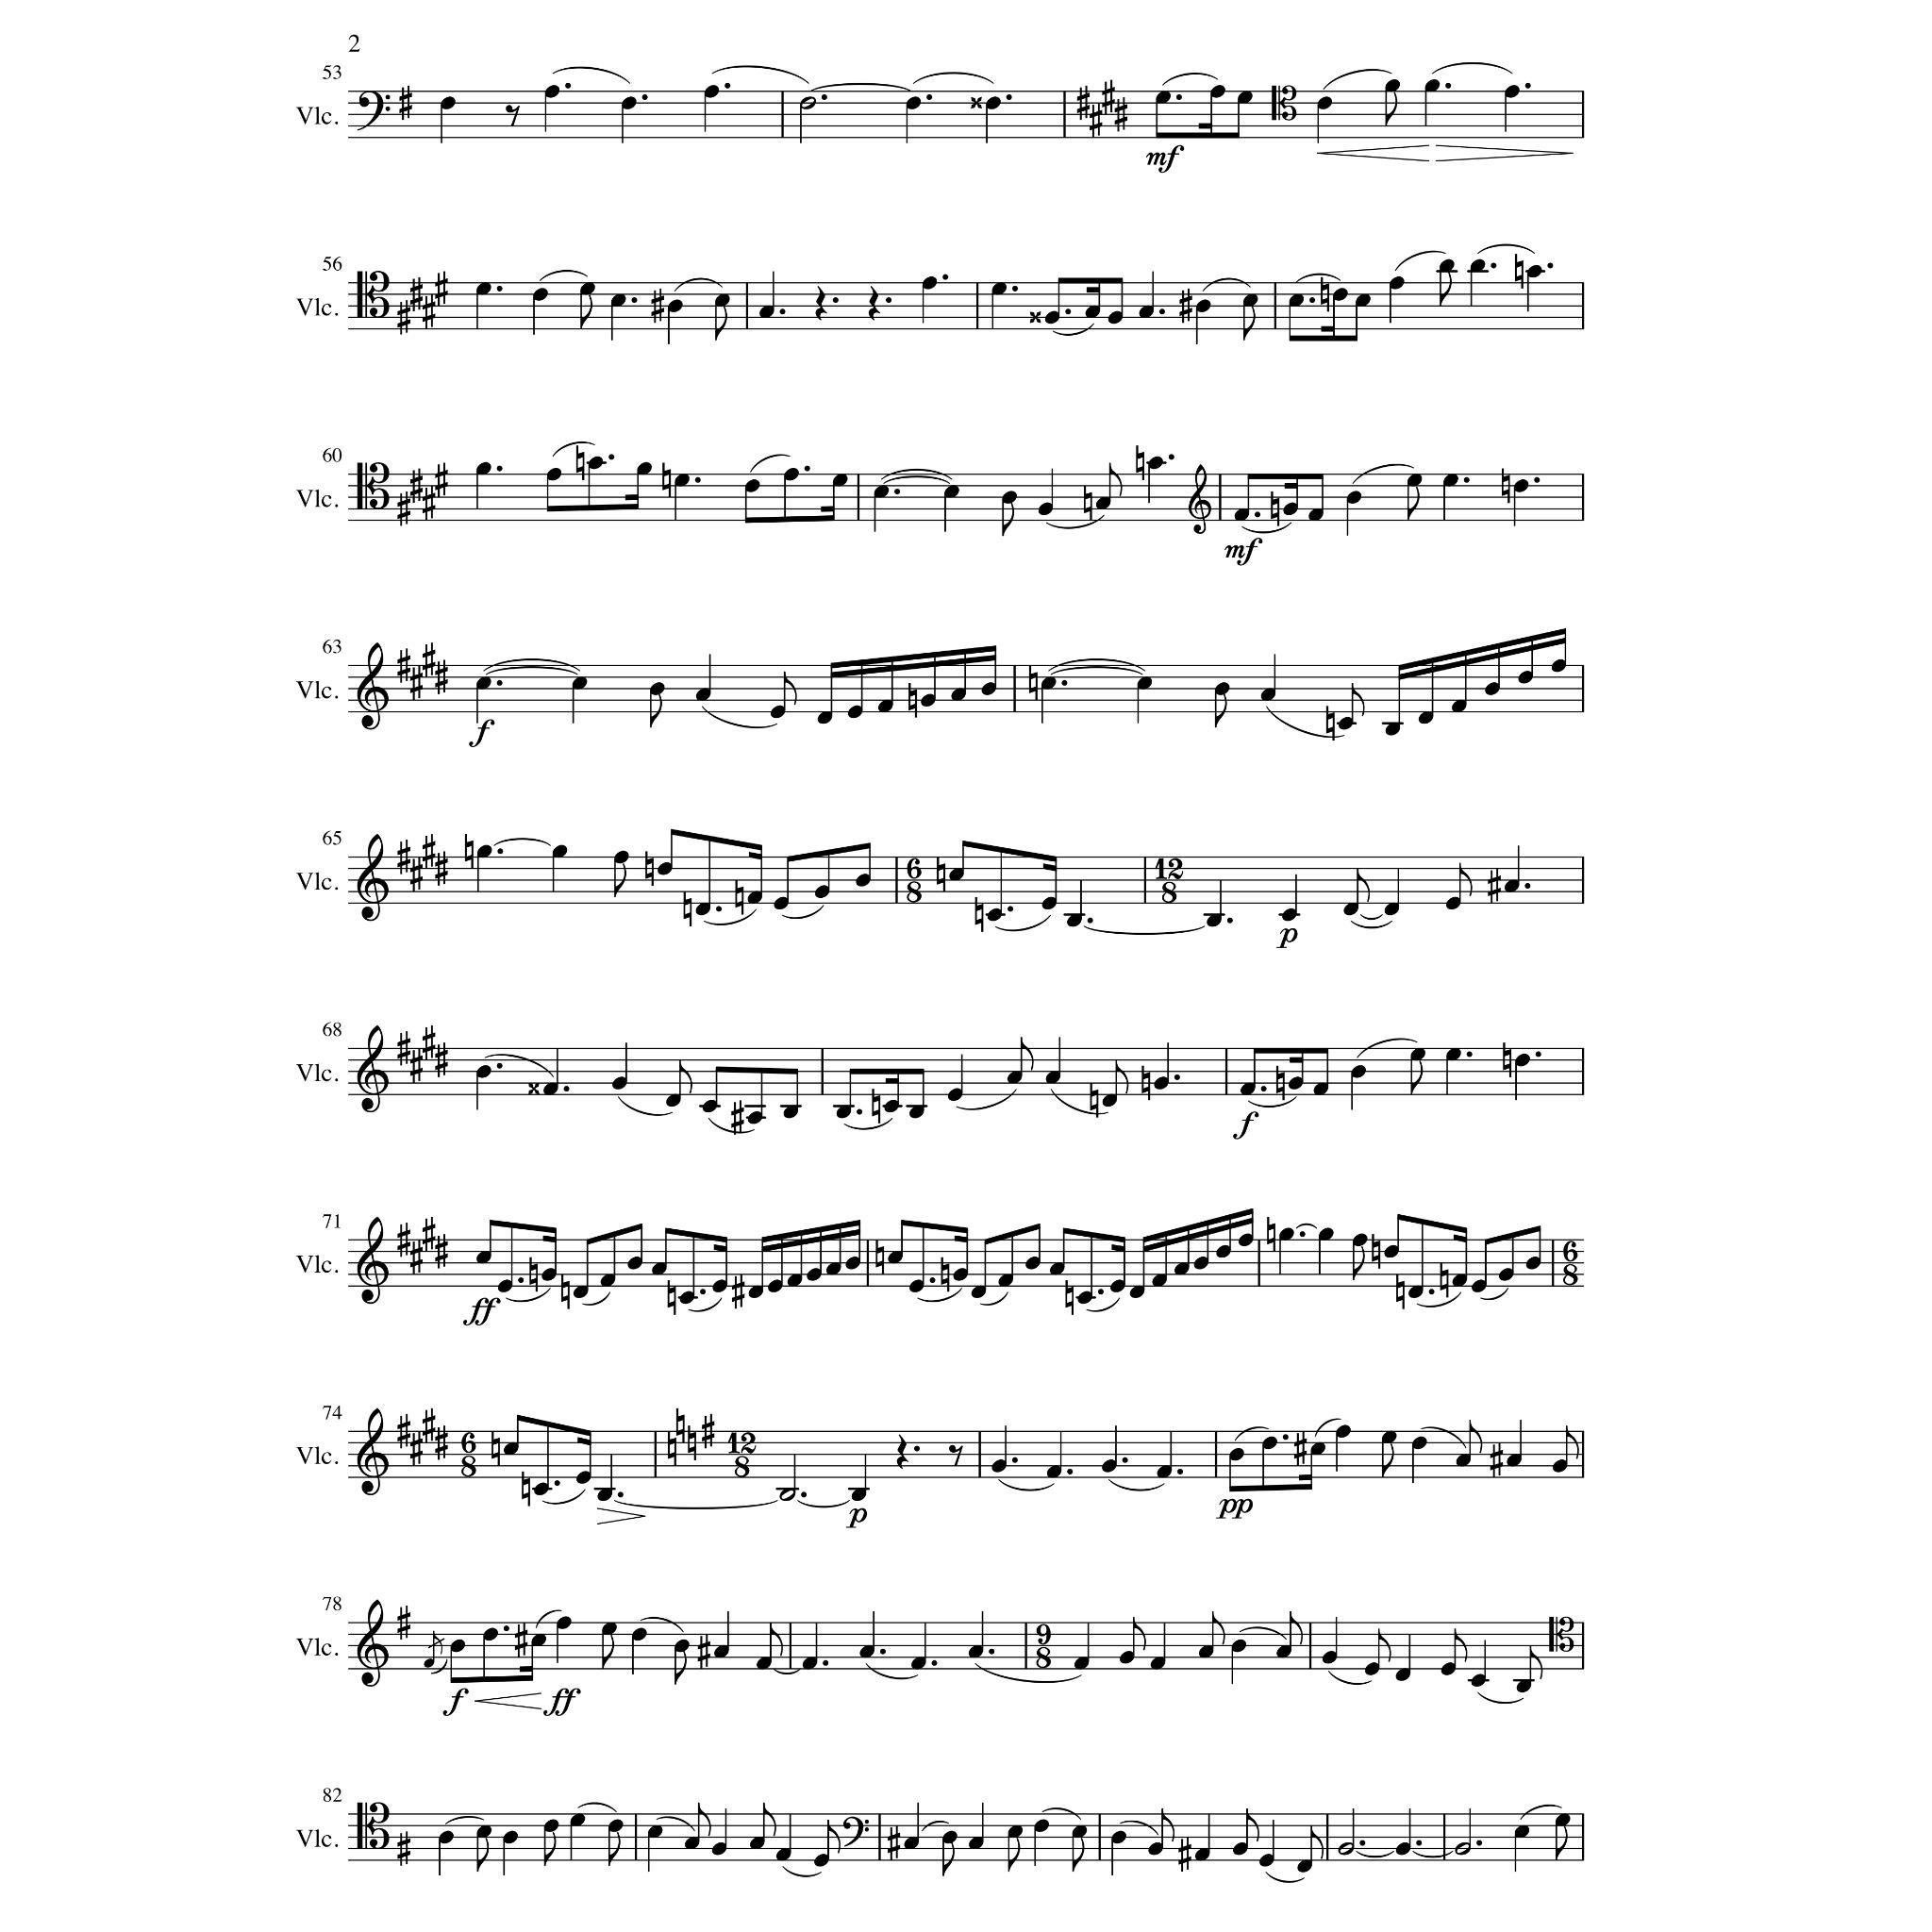fClef: (357, 90, 391, 131)
flag8thDown: (1410, 1060, 1422, 1095), (1352, 1246, 1364, 1281), (674, 1651, 686, 1686), (609, 1831, 621, 1867), (543, 1831, 556, 1867), (1385, 92, 1398, 126), (1242, 306, 1254, 340), (1438, 272, 1451, 306), (715, 306, 727, 340), (580, 295, 593, 329), (1407, 487, 1419, 520), (1214, 694, 1226, 727), (649, 694, 662, 727), (614, 863, 626, 897), (1382, 1444, 1394, 1477), (602, 1635, 614, 1668), (1072, 1838, 1085, 1872), (1008, 1838, 1021, 1872), (943, 1842, 955, 1875), (1003, 502, 1014, 538), (1557, 1826, 1568, 1859), (478, 1838, 488, 1872)
flag8thUp: (426, 1624, 444, 1656), (1454, 1628, 1468, 1663), (1109, 464, 1123, 497), (1352, 683, 1366, 717), (784, 672, 798, 706), (1566, 1426, 1580, 1460), (1212, 1612, 1226, 1645), (1132, 1617, 1146, 1651), (770, 1622, 784, 1656), (1246, 1808, 1260, 1842), (1161, 1808, 1175, 1842), (763, 1803, 777, 1836), (1116, 1060, 1129, 1095), (679, 1060, 692, 1095), (1470, 1419, 1483, 1454), (1530, 1645, 1543, 1681), (1378, 1628, 1391, 1663), (1357, 869, 1369, 902), (1460, 863, 1472, 897), (1021, 1037, 1033, 1070), (1290, 1612, 1302, 1645), (1311, 1826, 1323, 1859), (699, 1803, 711, 1836), (828, 1821, 840, 1854)
gClef: (357, 642, 389, 731), (357, 833, 389, 922), (357, 1024, 389, 1113), (357, 1215, 389, 1304), (357, 1408, 389, 1497), (357, 1599, 389, 1688)
noteheadBlack: (1384, 80, 1401, 94), (545, 467, 563, 481), (872, 485, 890, 499), (1384, 722, 1401, 736), (816, 711, 833, 725), (985, 908, 1003, 922), (1497, 1267, 1514, 1281), (844, 1256, 862, 1270), (1155, 1465, 1173, 1479), (1228, 1447, 1246, 1461), (858, 1645, 876, 1660), (1155, 90, 1171, 104), (1424, 80, 1440, 94), (1288, 294, 1304, 308), (1242, 294, 1258, 308), (1353, 294, 1369, 308), (1389, 276, 1405, 290), (715, 294, 731, 308), (580, 281, 596, 295), (610, 294, 626, 308), (476, 281, 492, 295), (991, 281, 1007, 295), (922, 276, 938, 290), (1283, 502, 1299, 517), (1037, 502, 1053, 517), (1095, 497, 1111, 511), (1233, 508, 1249, 522), (1148, 456, 1164, 471), (1307, 508, 1323, 522), (587, 456, 603, 471), (637, 462, 653, 476), (476, 462, 492, 476), (943, 485, 959, 499), (784, 467, 800, 481), (1417, 711, 1433, 725), (1260, 686, 1276, 701), (1338, 717, 1353, 731), (1451, 699, 1467, 713), (1518, 671, 1534, 685), (1550, 658, 1566, 672), (571, 676, 587, 690), (695, 686, 711, 701), (476, 676, 492, 690), (920, 694, 936, 708), (950, 686, 966, 701), (1040, 676, 1056, 690), (878, 699, 893, 713), (1281, 908, 1297, 922), (1040, 897, 1056, 911), (1343, 902, 1359, 916), (1384, 902, 1399, 916), (1445, 897, 1461, 911), (1504, 879, 1520, 893), (656, 862, 672, 876), (695, 902, 711, 916), (814, 885, 830, 899), (773, 897, 789, 911), (747, 892, 763, 906), (1240, 1083, 1256, 1097), (1288, 1076, 1304, 1090), (1007, 1070, 1023, 1085), (1046, 1070, 1062, 1085), (1102, 1093, 1118, 1108), (1154, 1076, 1169, 1090), (1313, 1083, 1329, 1097), (1350, 1065, 1366, 1079), (1410, 1047, 1426, 1062), (1445, 1047, 1461, 1062), (610, 1076, 626, 1090), (665, 1093, 681, 1108), (747, 1111, 763, 1125), (476, 1065, 492, 1079), (543, 1083, 559, 1097), (909, 1106, 925, 1120), (782, 1106, 798, 1120), (835, 1106, 851, 1120), (1192, 1256, 1208, 1270), (1173, 1261, 1189, 1276), (1237, 1233, 1253, 1247), (1279, 1228, 1295, 1242), (1049, 1261, 1065, 1276), (1024, 1256, 1040, 1270), (1525, 1256, 1541, 1270), (1352, 1233, 1368, 1247), (1318, 1228, 1334, 1242), (541, 1267, 557, 1281), (651, 1261, 667, 1276), (626, 1256, 642, 1270), (952, 1267, 968, 1281), (824, 1261, 840, 1276), (807, 1267, 823, 1281), (1336, 1424, 1352, 1438), (1261, 1437, 1277, 1451), (1046, 1465, 1062, 1479), (1309, 1442, 1325, 1456), (1410, 1437, 1426, 1451), (575, 1470, 591, 1484), (596, 1488, 612, 1502), (502, 1442, 518, 1456), (851, 1488, 867, 1502), (1150, 1656, 1166, 1670), (1198, 1645, 1214, 1660), (1276, 1645, 1292, 1660), (1322, 1651, 1338, 1665), (1074, 1656, 1090, 1670), (1120, 1651, 1136, 1665), (968, 1645, 984, 1660), (1516, 1679, 1532, 1693), (1470, 1674, 1486, 1688), (531, 1633, 547, 1647), (556, 1615, 571, 1629), (801, 1656, 817, 1670), (911, 1656, 927, 1670), (713, 1645, 729, 1660), (755, 1656, 771, 1670), (1194, 1847, 1210, 1861), (1231, 1842, 1247, 1856), (1111, 1829, 1127, 1844), (1148, 1842, 1164, 1856), (1394, 1842, 1410, 1856), (683, 1836, 699, 1851), (502, 1829, 518, 1844), (941, 1829, 957, 1844), (711, 1842, 727, 1856), (748, 1836, 764, 1851), (968, 1836, 984, 1851), (775, 1847, 791, 1861), (1525, 265, 1543, 278), (1468, 260, 1486, 272), (531, 288, 548, 301), (701, 1100, 718, 1113), (886, 1251, 904, 1263), (1454, 1454, 1472, 1467), (630, 1628, 648, 1640), (1070, 1826, 1088, 1838), (1553, 1813, 1571, 1826), (1238, 90, 1253, 104), (1138, 676, 1152, 690), (439, 1829, 453, 1844), (904, 1836, 918, 1851), (1210, 85, 1226, 97), (1316, 97, 1332, 110), (1504, 85, 1520, 97), (543, 85, 559, 97), (621, 97, 637, 110), (704, 85, 720, 97), (441, 97, 456, 110), (985, 97, 1001, 110), (1044, 311, 1060, 324), (1085, 306, 1100, 318), (1194, 301, 1210, 313), (1108, 311, 1123, 324), (1138, 306, 1154, 318), (1332, 288, 1348, 301), (1438, 260, 1454, 272), (759, 306, 775, 318), (667, 301, 683, 313), (1407, 474, 1422, 487), (1444, 474, 1460, 487), (1513, 479, 1529, 492), (674, 474, 690, 487), (1001, 492, 1017, 504), (743, 479, 759, 492), (832, 474, 847, 487), (1214, 683, 1230, 695), (1484, 683, 1500, 695), (649, 683, 665, 695), (770, 706, 786, 718), (980, 683, 996, 695), (847, 706, 863, 718), (1207, 915, 1223, 927), (1065, 915, 1081, 927), (614, 851, 630, 863), (552, 846, 568, 858), (476, 846, 492, 858), (948, 869, 964, 881), (855, 874, 870, 886), (1514, 1054, 1530, 1067), (883, 1100, 899, 1113), (947, 1088, 962, 1100), (1215, 1246, 1231, 1258), (998, 1274, 1014, 1286), (1077, 1292, 1093, 1304), (1152, 1274, 1168, 1286), (1129, 1286, 1145, 1299), (1109, 1279, 1125, 1292), (1408, 1286, 1424, 1299), (1384, 1246, 1399, 1258), (1472, 1279, 1488, 1292), (1451, 1274, 1467, 1286), (711, 1279, 727, 1292), (497, 1279, 513, 1292), (679, 1292, 695, 1304), (768, 1279, 784, 1292), (786, 1274, 801, 1286), (748, 1286, 764, 1299), (600, 1274, 616, 1286), (571, 1286, 587, 1299), (909, 1279, 925, 1292), (970, 1286, 985, 1299), (476, 1251, 492, 1263), (1100, 1460, 1116, 1472), (1380, 1431, 1396, 1444), (1506, 1454, 1522, 1467), (1552, 1460, 1568, 1472), (533, 1483, 548, 1495), (991, 1460, 1007, 1472), (1231, 1640, 1247, 1652), (1394, 1668, 1410, 1681), (1364, 1663, 1380, 1675), (1440, 1663, 1456, 1675), (602, 1622, 617, 1635), (449, 1640, 465, 1652), (483, 1628, 499, 1640), (1297, 1859, 1313, 1872), (1258, 1854, 1274, 1867), (1033, 1819, 1049, 1831), (1514, 1826, 1530, 1838), (607, 1819, 623, 1831), (648, 1826, 663, 1838), (570, 1813, 586, 1826), (1007, 1826, 1023, 1838), (543, 1819, 559, 1831), (476, 1826, 492, 1838), (812, 1854, 828, 1867), (906, 97, 920, 110), (1346, 492, 1361, 504), (674, 1640, 688, 1652), (423, 1658, 433, 1668)
noteheadHalf: (778, 1488, 796, 1502), (1338, 1842, 1355, 1856), (1454, 1842, 1470, 1856), (800, 97, 816, 110)
rest8th: (504, 104, 520, 127), (948, 1444, 962, 1467)
restQuarter: (814, 287, 826, 322), (869, 287, 881, 322), (897, 1435, 909, 1468)
